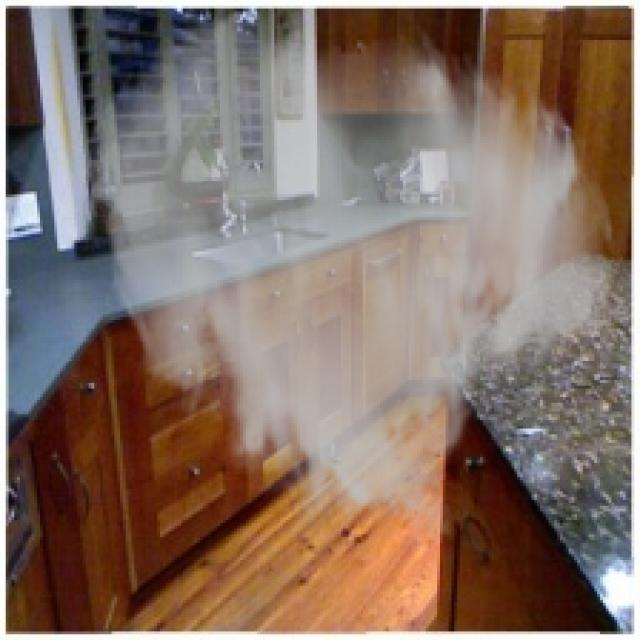smoke: (83, 6, 620, 546)
